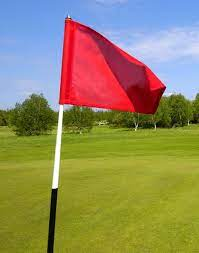Flag: (58, 16, 169, 115)
